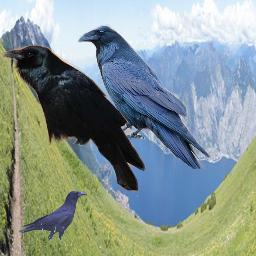Crow: (1, 45, 146, 192), (76, 24, 210, 169), (18, 190, 86, 245)
